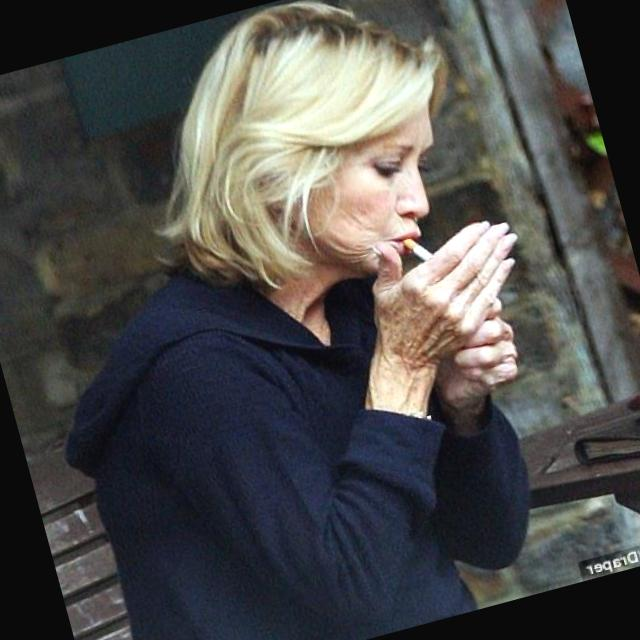cigarette: (377, 210, 474, 287)
